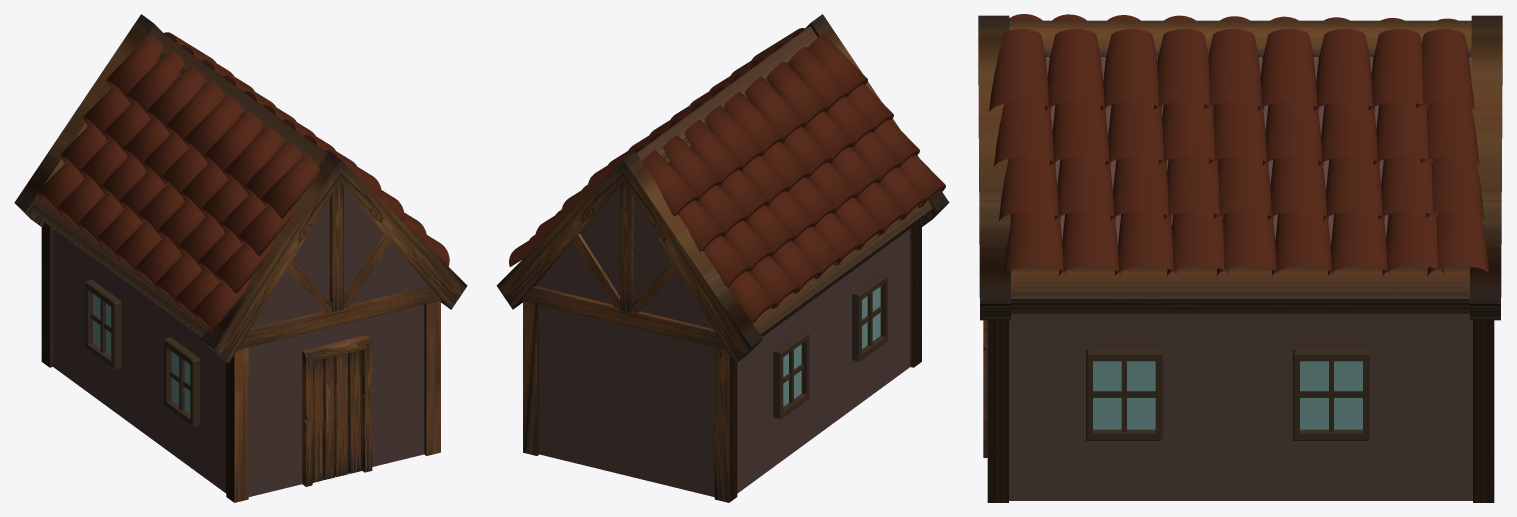
The model's file is SM_House_003.fbx.
3 renders of one model, left to right at view 1: azimuth 30°, elevation 25°; view 2: azimuth 150°, elevation 25°; view 3: azimuth 270°, elevation 25°, orthographic. The views are drawn at different scales.
Visible parts, largest first — view 1: Plane.015; view 2: Plane.015; view 3: Plane.015.
Part boxes in pixels (bbox=[...]): Plane.015: bbox=[14, 14, 467, 502]; Plane.015: bbox=[496, 14, 949, 502]; Plane.015: bbox=[978, 14, 1502, 502].
Bounding box in the file's own units: 466 × 556 × 628.
